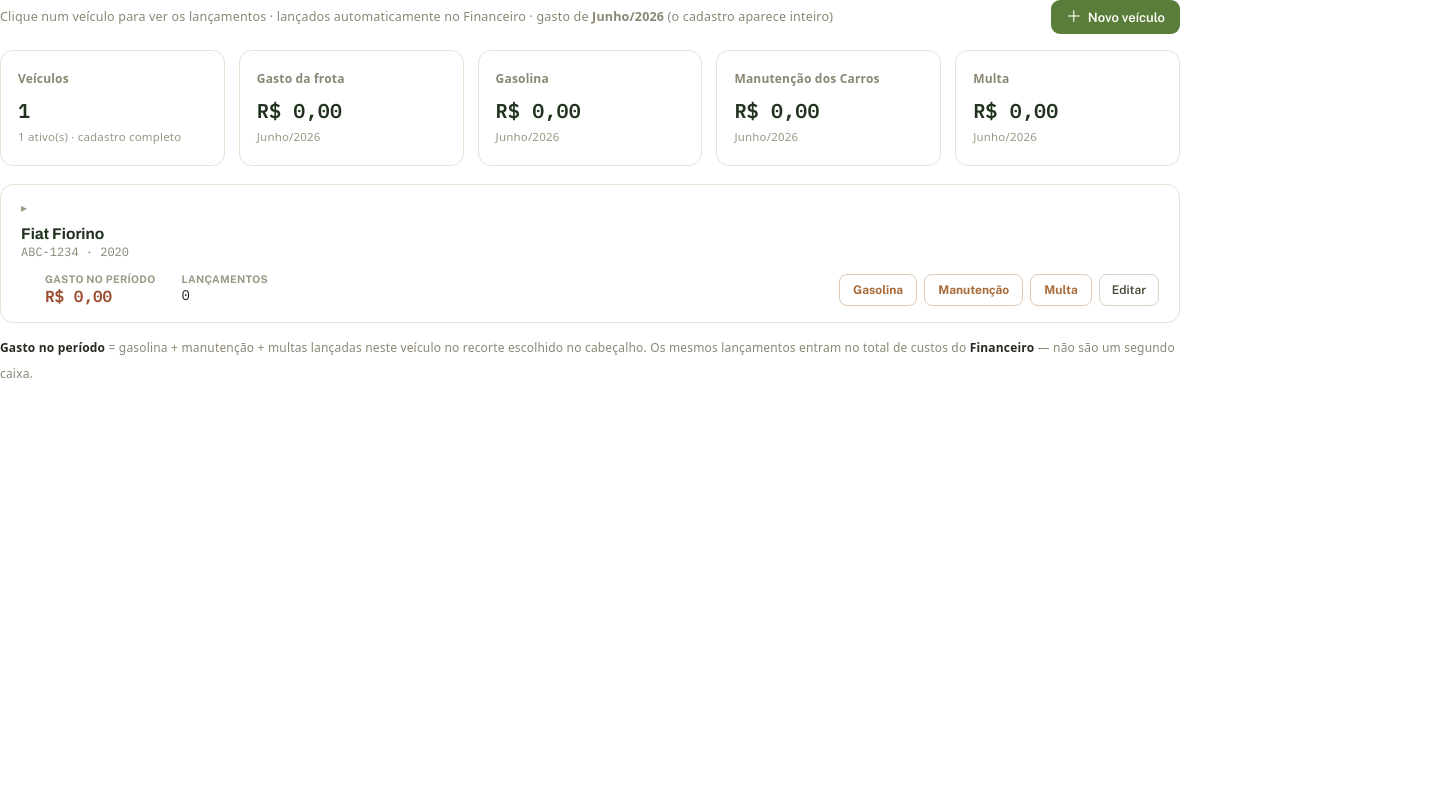
Test: VeiculosLista — o botao abre o modal de lancamento QUE JA EXISTE, pre-preenchido › salvar pelo modal manda veiculo_id e categoria, e o gasto da linha reage sem refetch
This screenshot has width=1440, height=810.
Click the button with aria-label "Lançar gasolina": (878, 290) [839,274,917,306]
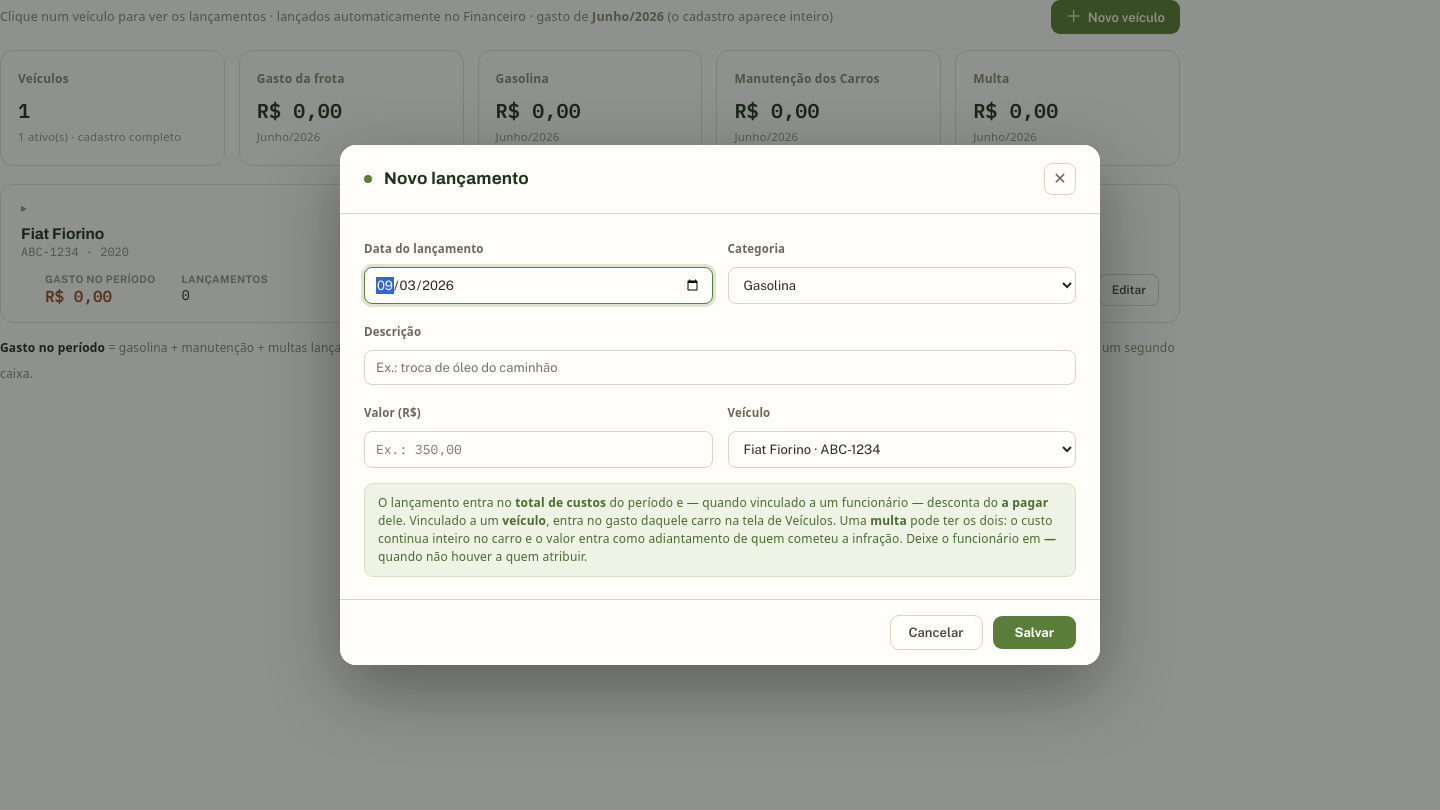
In the date field labelled "Data do lançamento": (538, 286) [364,267,712,304], type "2026-06-14"
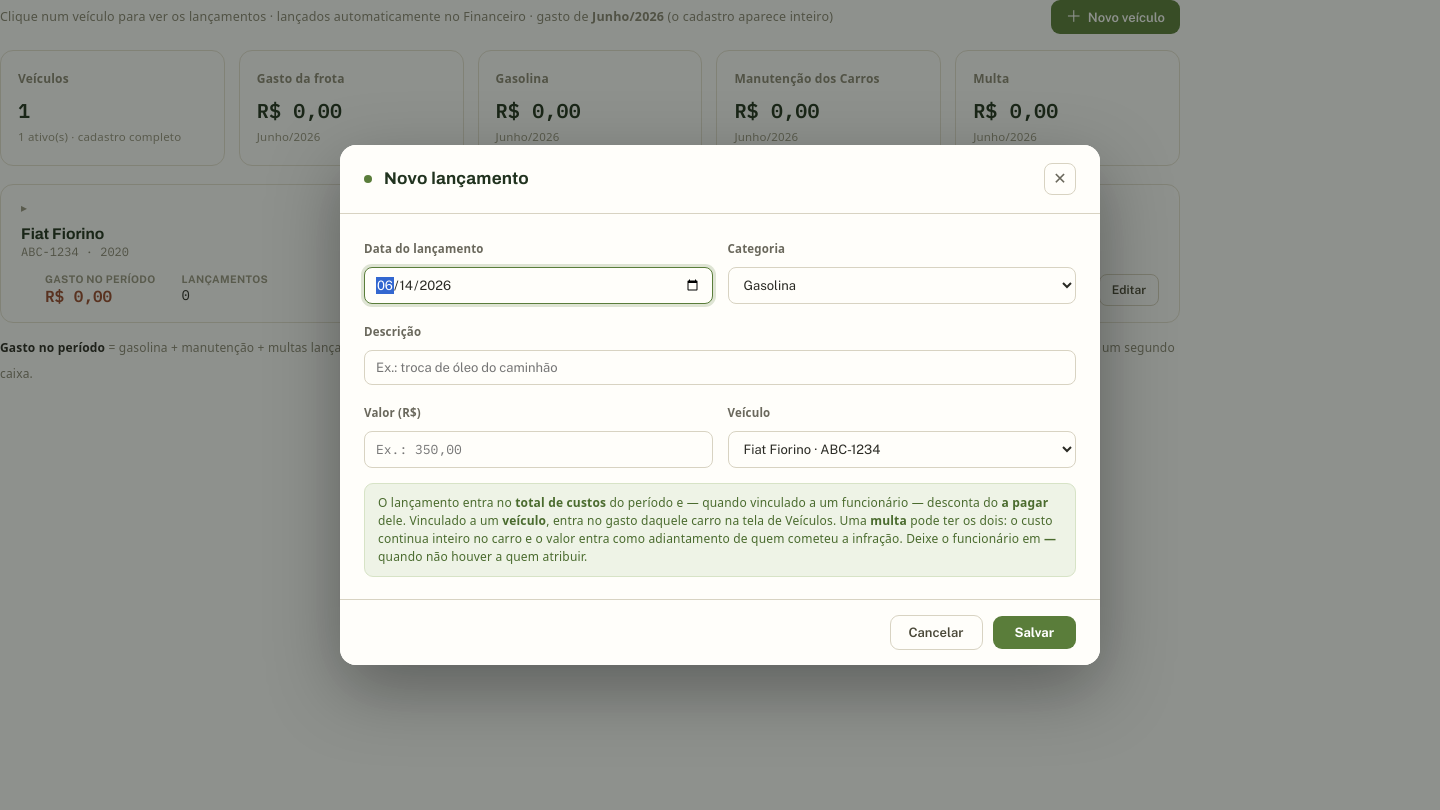
In the number field labelled "Valor (R$)": (538, 450) [364,431,712,468], type "250"
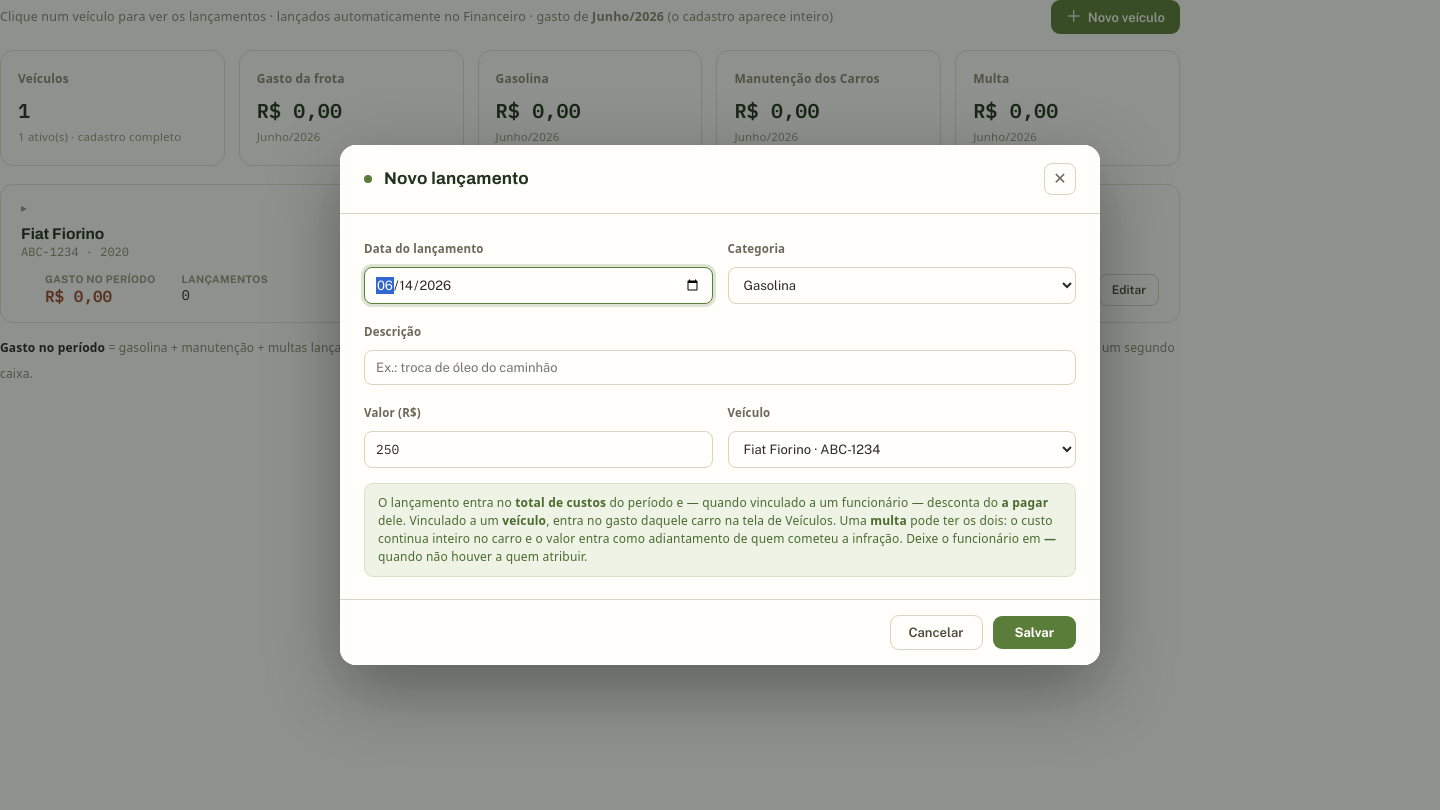
Click the button "Salvar": (1034, 633) [992,616,1076,649]
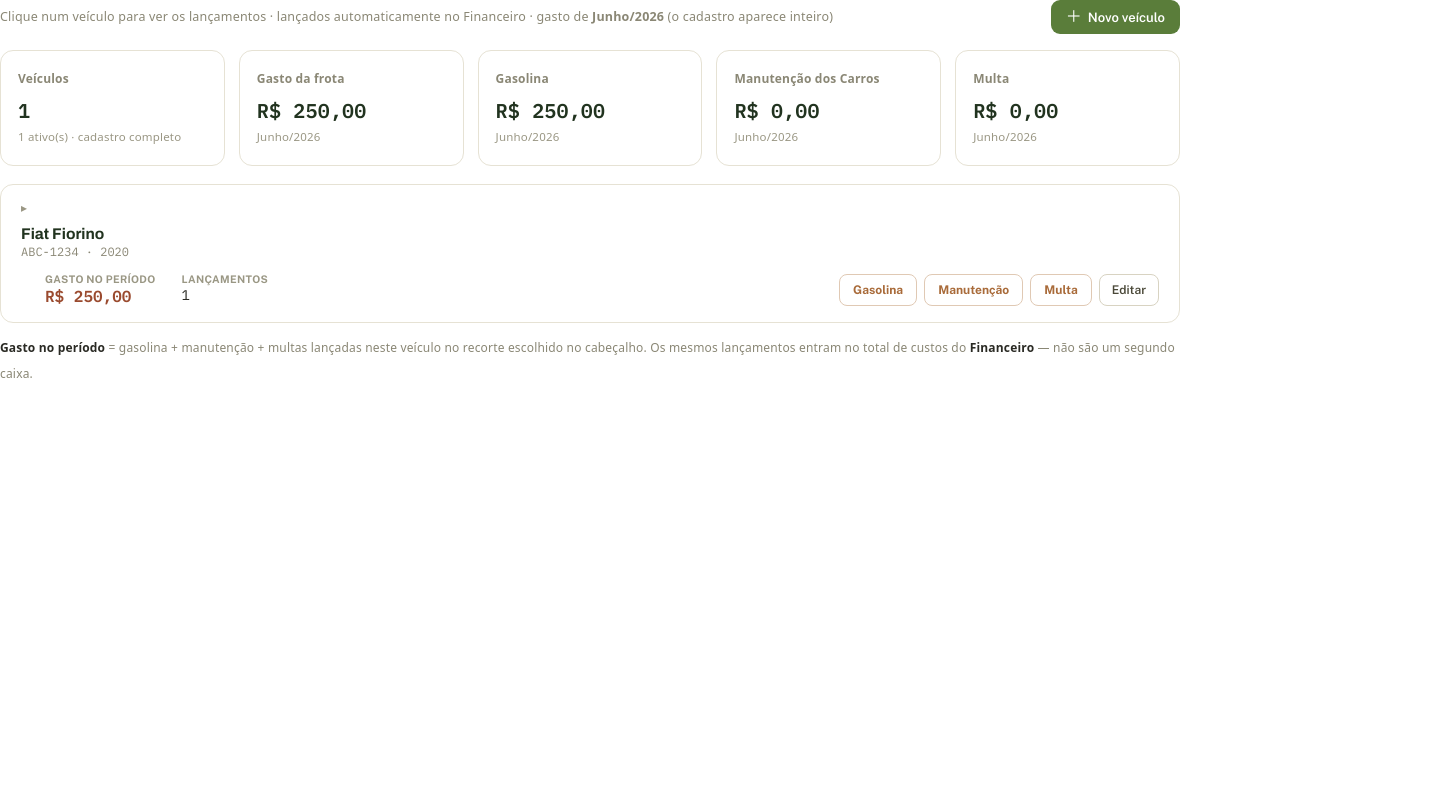
Expected: the text "R$ 250,00" below "Gasto da frota" is shown, [257,97,366,124]
